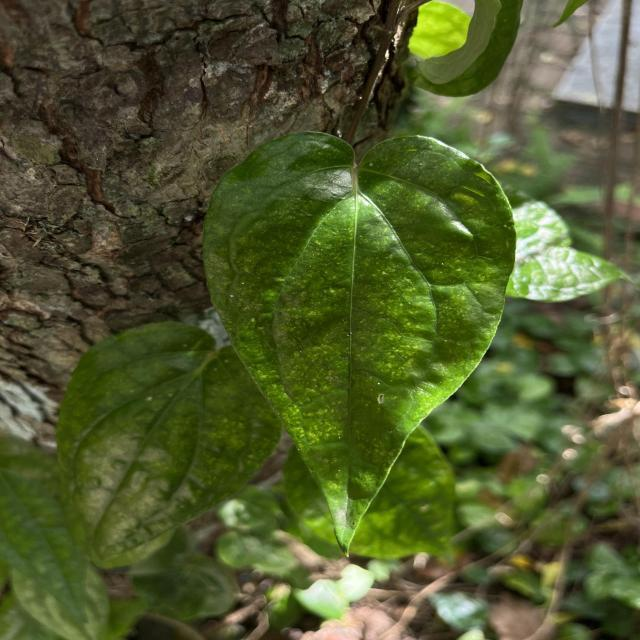Piper betle: (198, 128, 520, 560)
